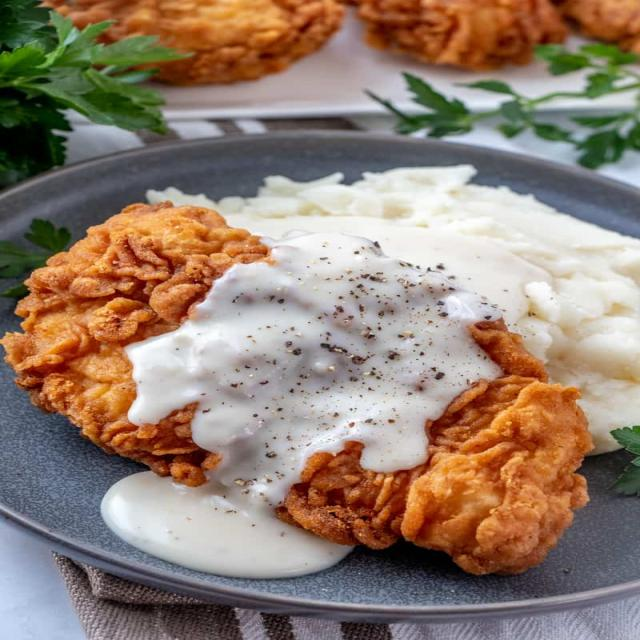Frango: (4, 198, 597, 580)
